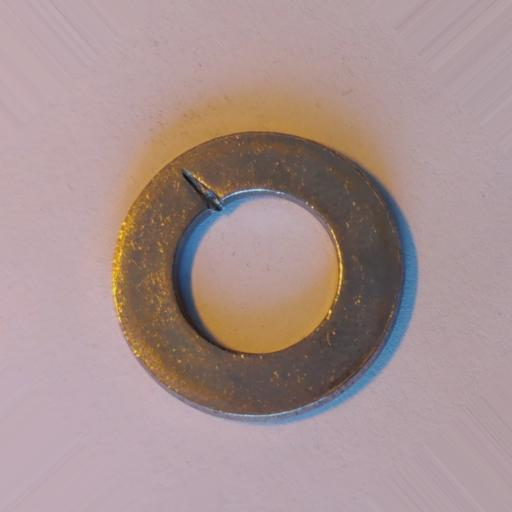scratch: (180, 168, 225, 211)
